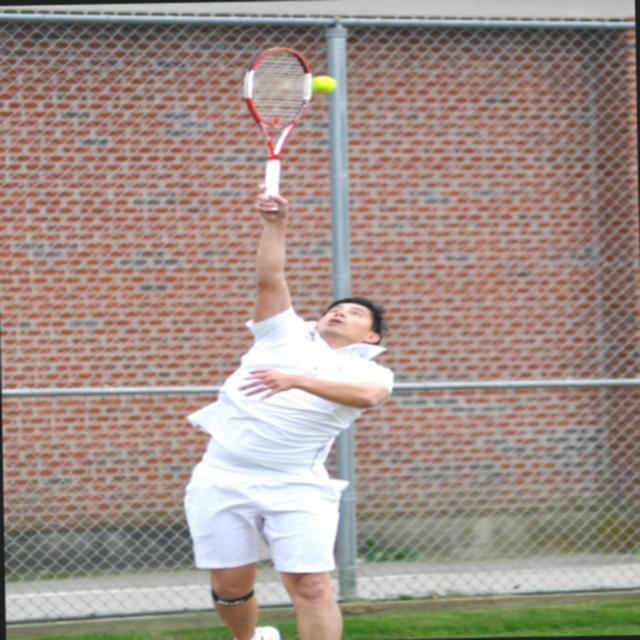Tennis Ball: (304, 74, 334, 95)
